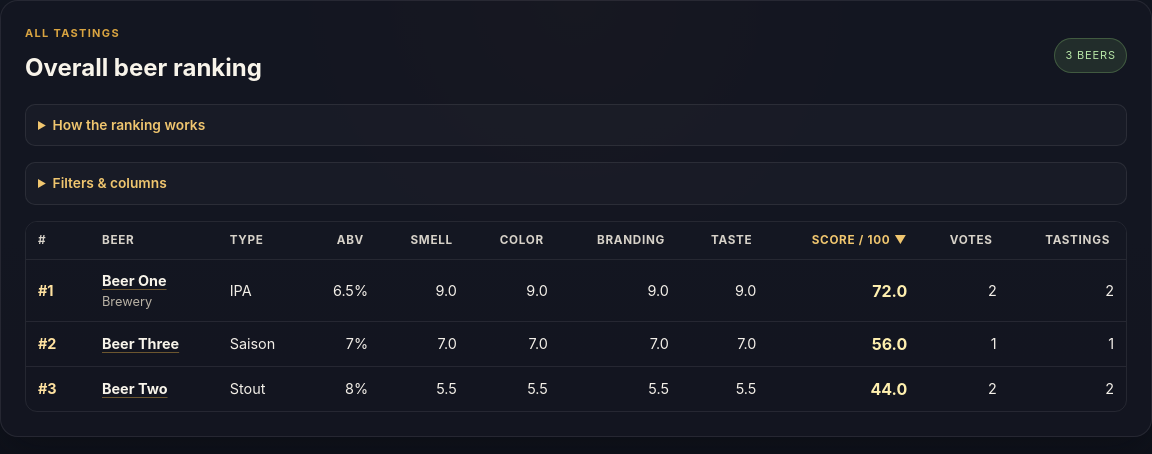
it: OverallRankingPanel › shows an empty state when filters match nothing
Replace the text in the search field named "Search" with "not a beer" at point(576, 183), box left=25, top=162, right=1127, bottom=205
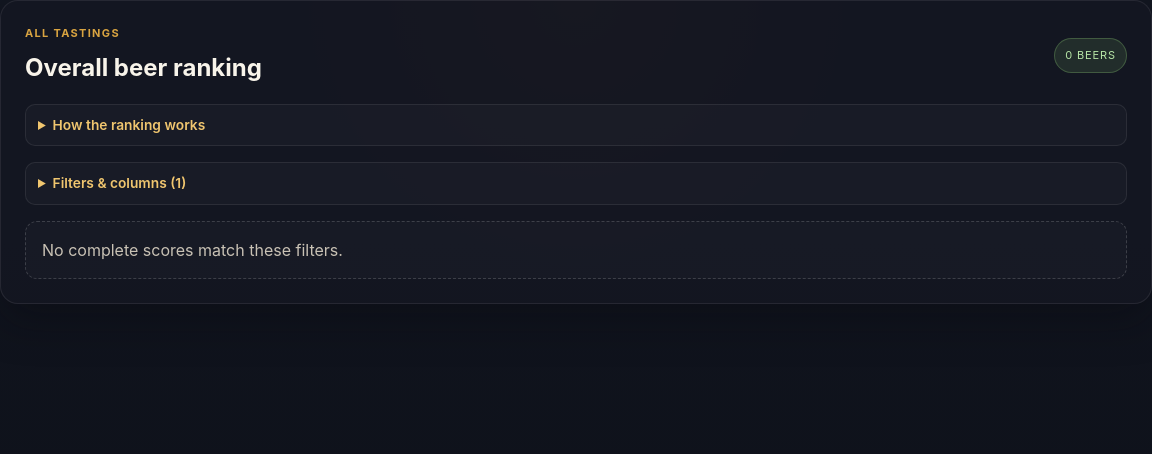
Check: the text "No complete scores match these filters." is shown, box left=25, top=221, right=1127, bottom=279
